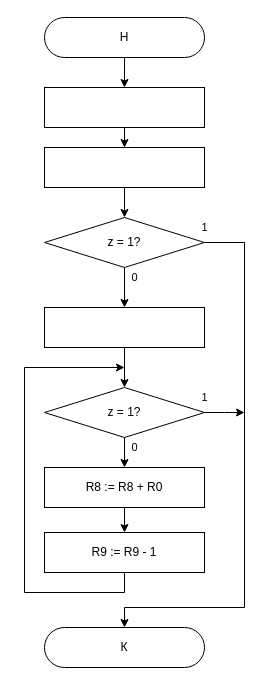
Some shapes in this 270 by 685 pixel diagram are drawn without their labels. The centre of each missing label's shape, as x and y in pixels:
"R0 := D" goes at pixel 124 167.
"R8 := 0" goes at pixel 124 107.
"R9 := D" goes at pixel 124 327.
